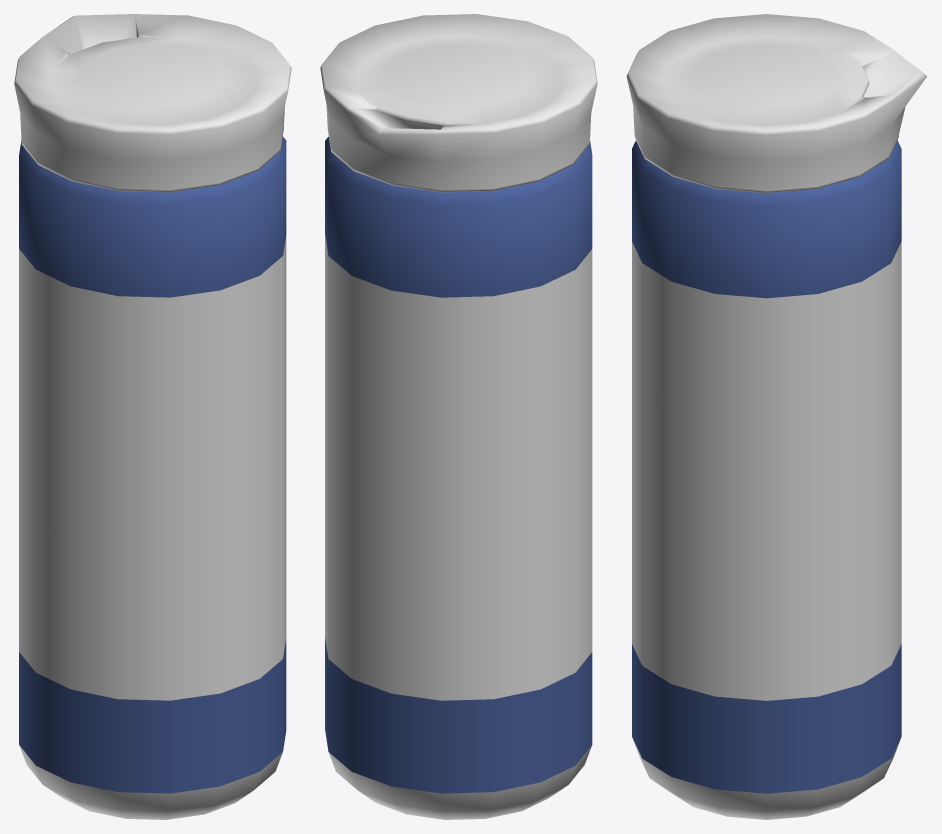
File: bottle.fbx
The picture shows the model from 3 angles, left to right: view 1: azimuth 30°, elevation 25°; view 2: azimuth 150°, elevation 25°; view 3: azimuth 270°, elevation 25°; orthographic projection.
Visible parts, largest first — view 1: Circle.002, Circle, Circle.001, Circle.003; view 2: Circle.002, Circle, Circle.001, Circle.003; view 3: Circle.002, Circle, Circle.001, Circle.003.
Boxes of the visible parts, left/top/right/bottom form: Circle.002: left=19, top=236, right=286, bottom=700; Circle: left=19, top=136, right=286, bottom=793; Circle.001: left=14, top=14, right=291, bottom=192; Circle.003: left=19, top=745, right=282, bottom=819; Circle.002: left=325, top=235, right=592, bottom=700; Circle: left=325, top=137, right=592, bottom=793; Circle.001: left=320, top=14, right=597, bottom=192; Circle.003: left=329, top=745, right=591, bottom=819; Circle.002: left=632, top=241, right=901, bottom=700; Circle: left=632, top=140, right=901, bottom=793; Circle.001: left=626, top=14, right=927, bottom=193; Circle.003: left=633, top=739, right=900, bottom=819.
Bounding box in the file's own units: 208 × 576 × 223.
